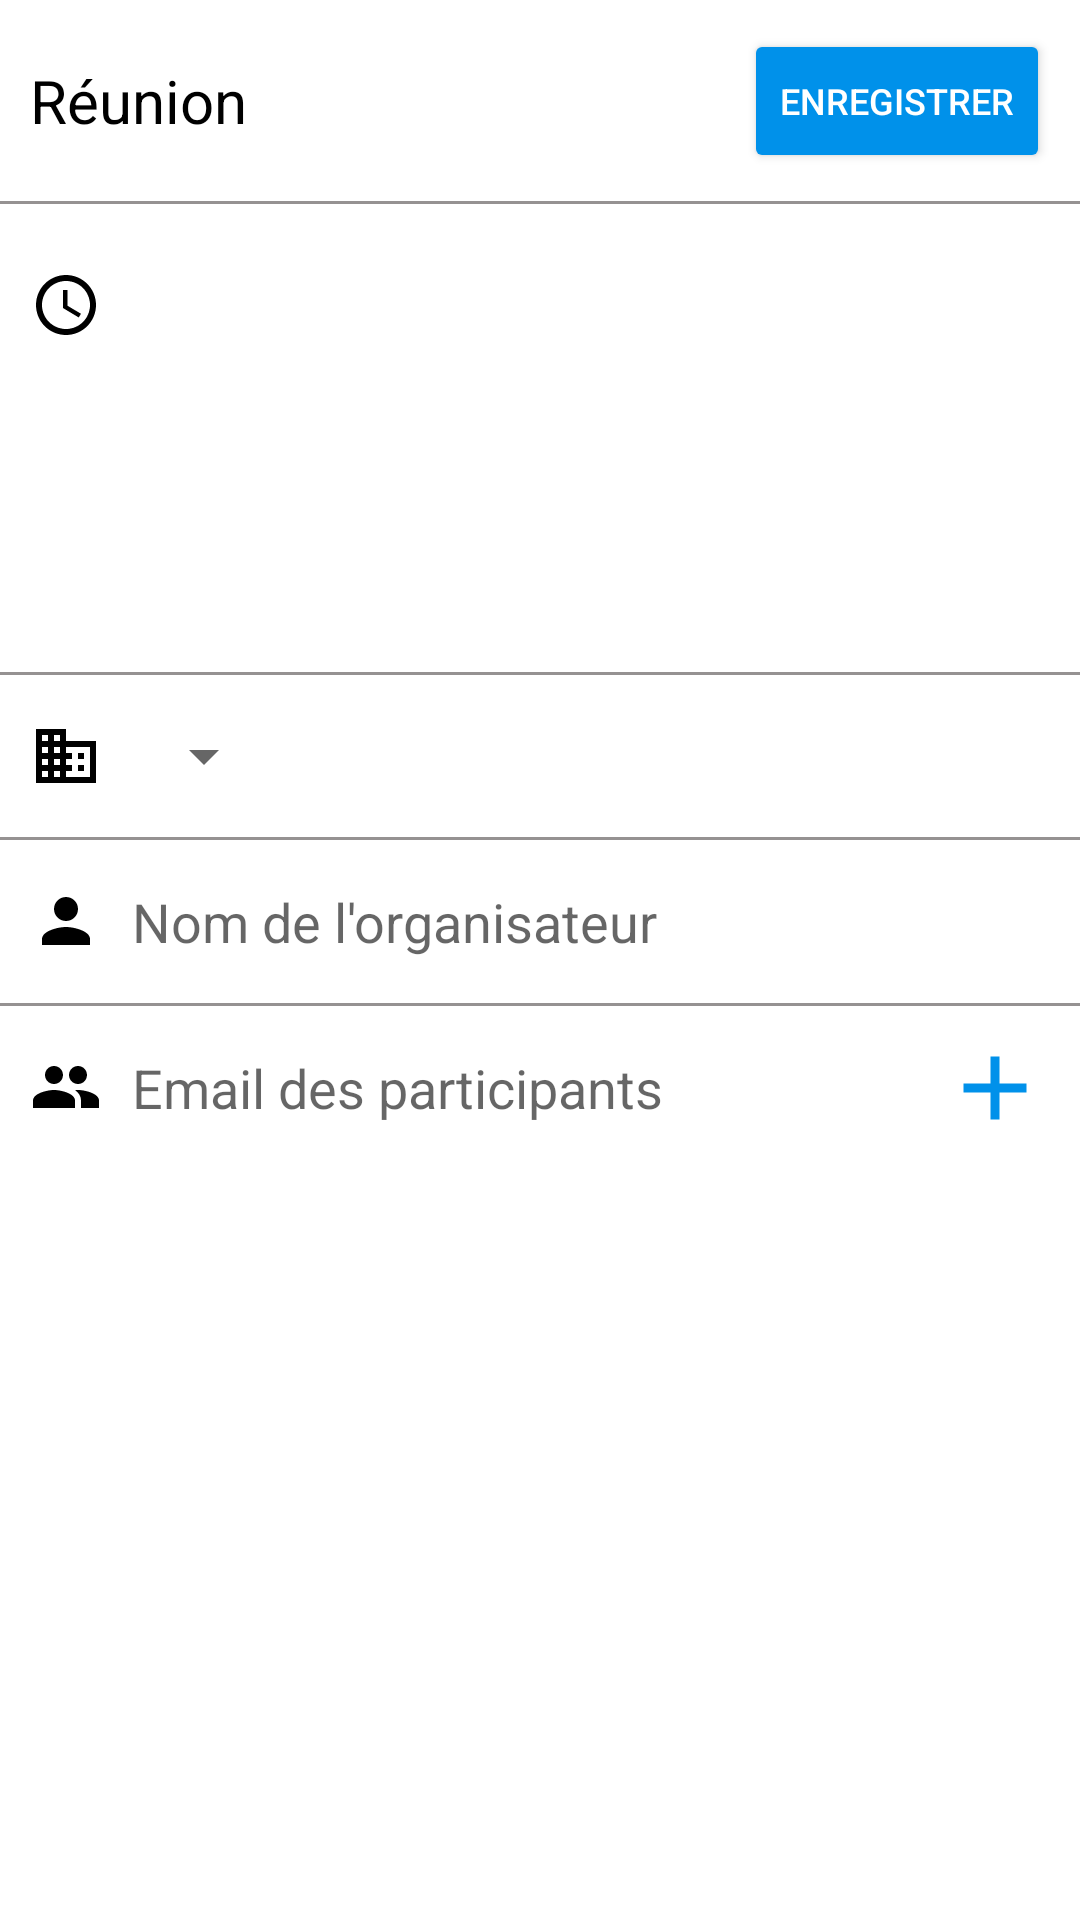

Point at icon controls on the screen. Image size 1080 x 1920, points as point (x, y).
access time: point (66, 305)
add: point (995, 1088)
business: point (66, 756)
person: point (66, 921)
